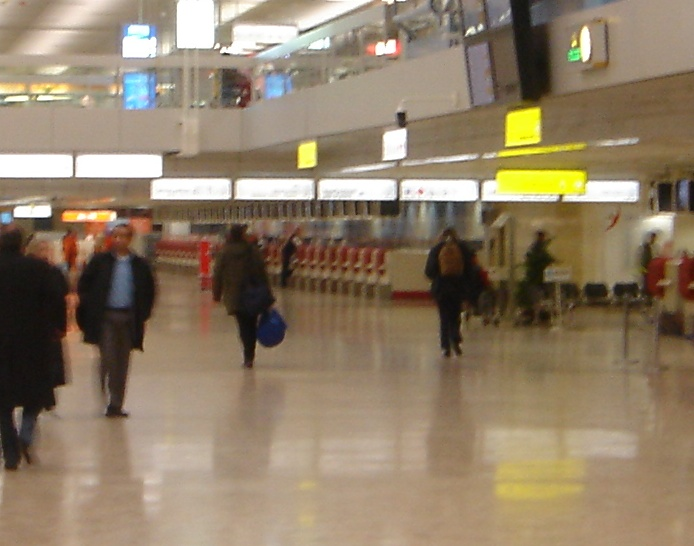person: (433, 226, 470, 355)
